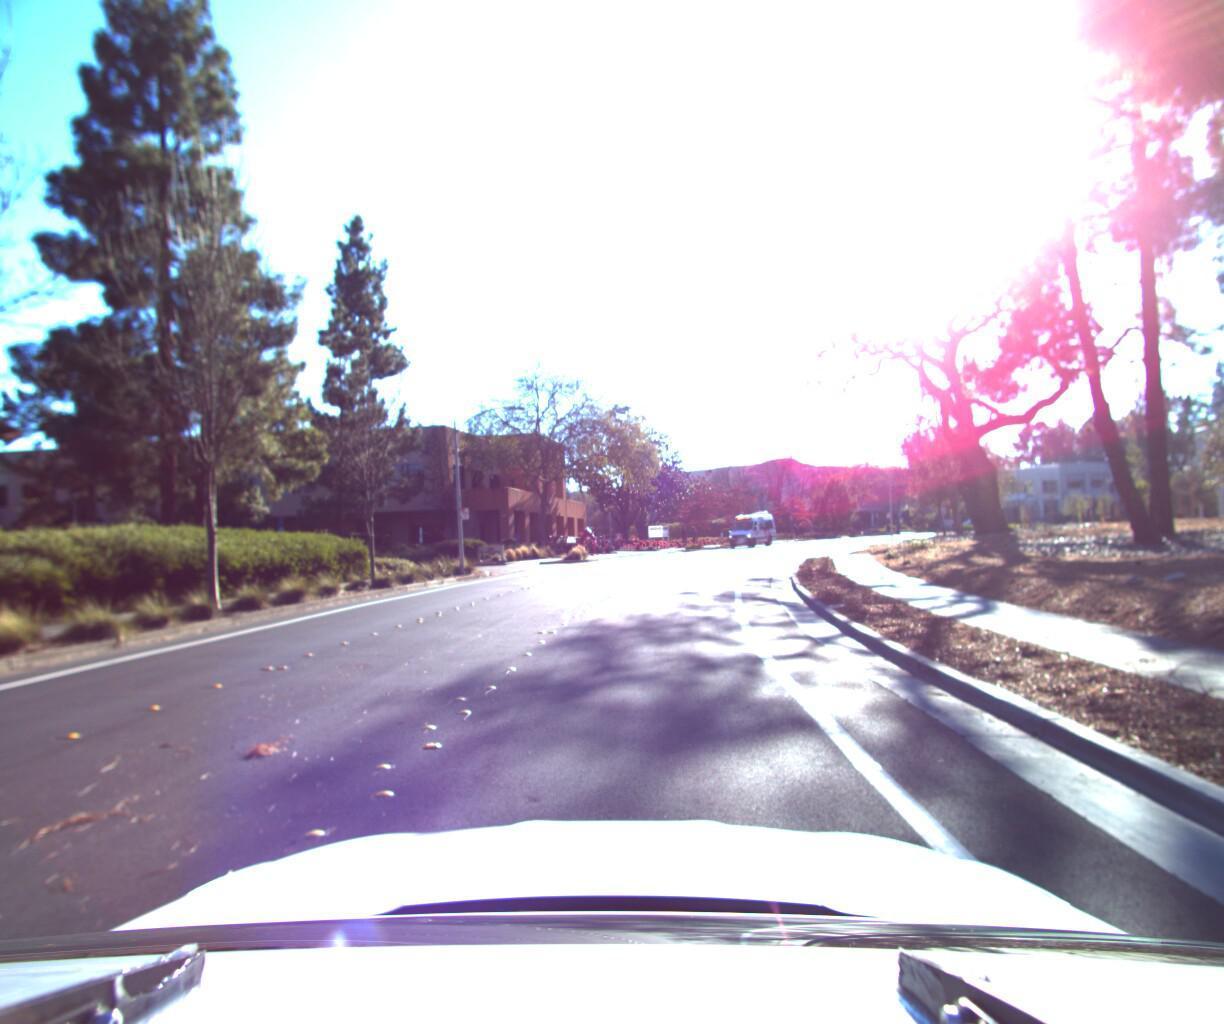bus: (721, 506, 782, 548)
